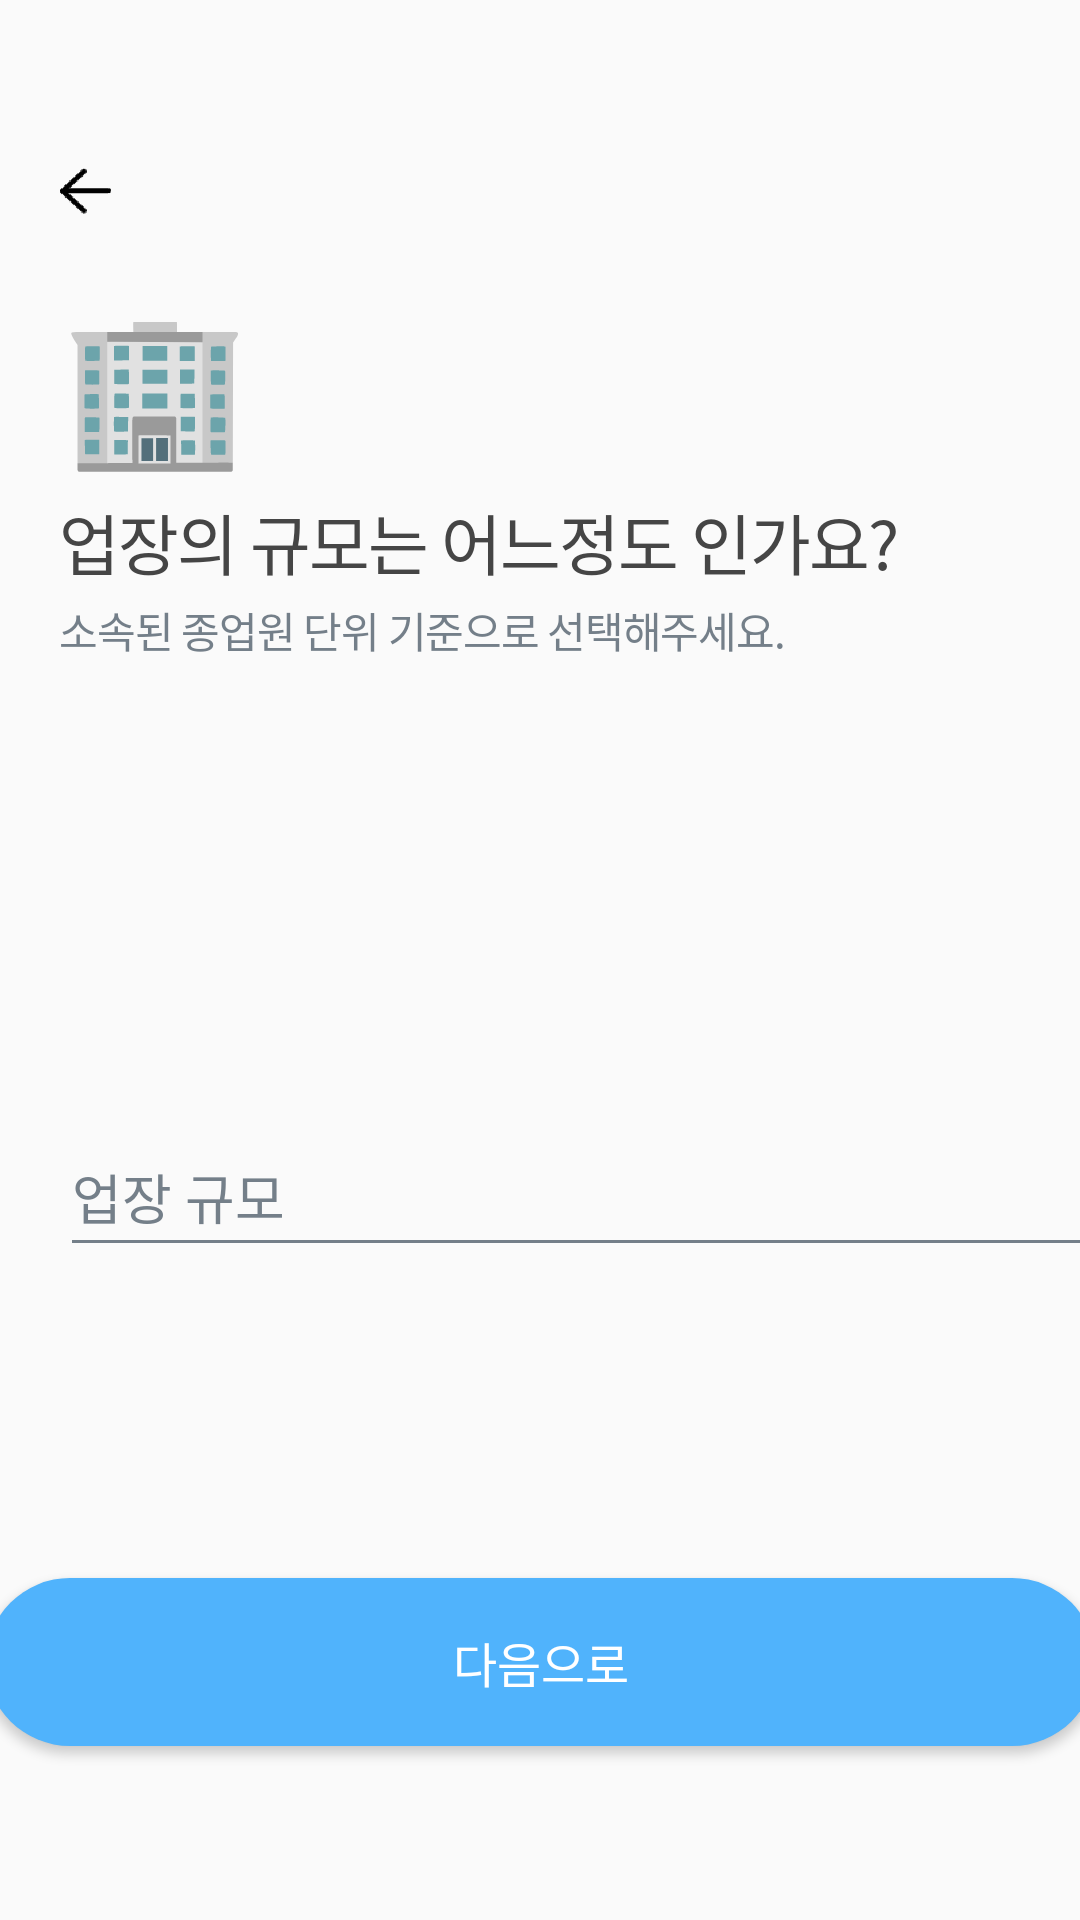

Icon bounding boxes for this 1080x1920 phone screenshot, format [x1,y1,x2,y2]:
before: [60,168,111,214]
